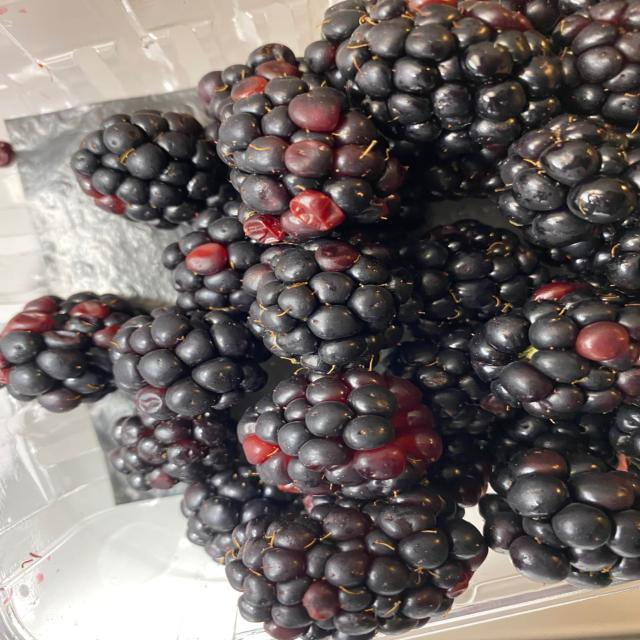blackberries: (10, 7, 627, 618)
